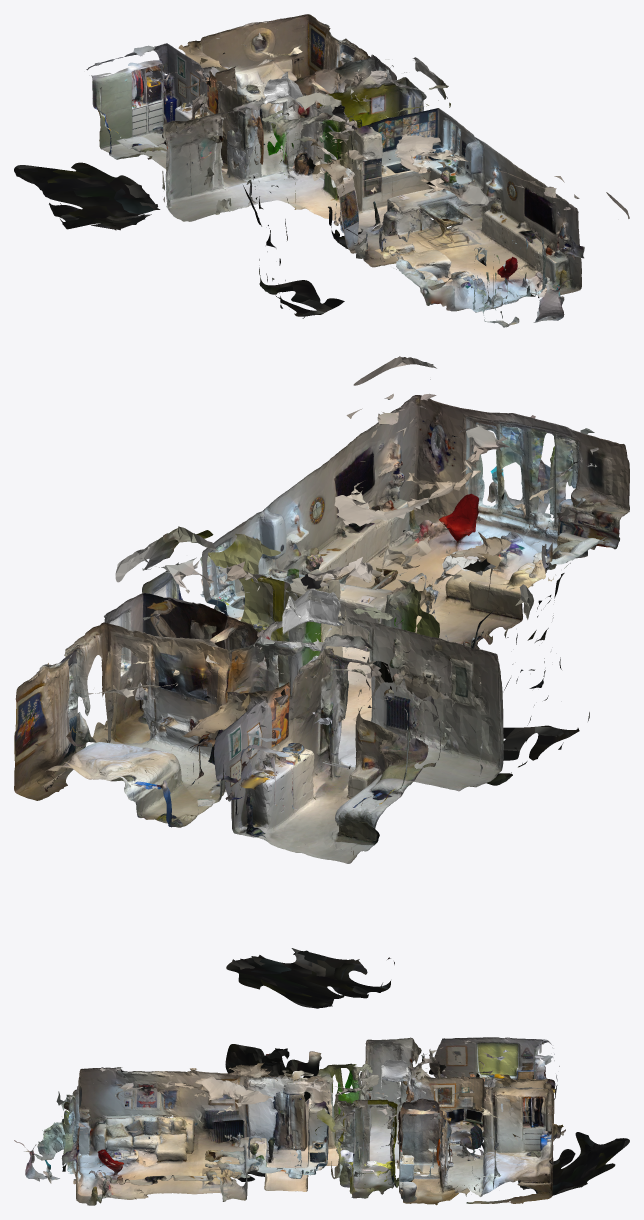
File: lounge-scan.glb
The picture shows the model from 3 angles, top to bottom: view 1: azimuth 30°, elevation 25°; view 2: azimuth 150°, elevation 25°; view 3: azimuth 270°, elevation 25°; orthographic projection. The views are drawn at different scales.
Bounding box in the file's own units: 9.06 × 5.42 × 19.32.
10 materials, 10 textured.
